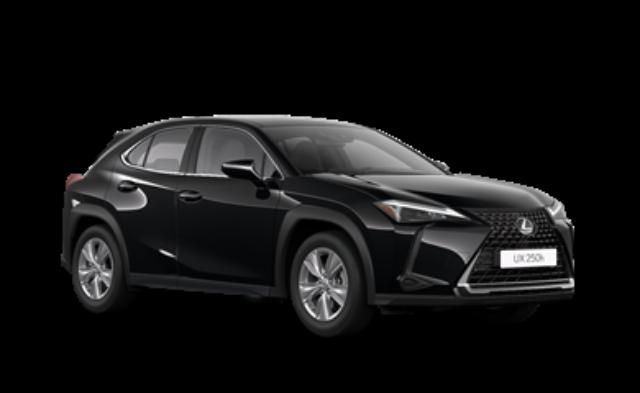lexus: (61, 115, 575, 337)
